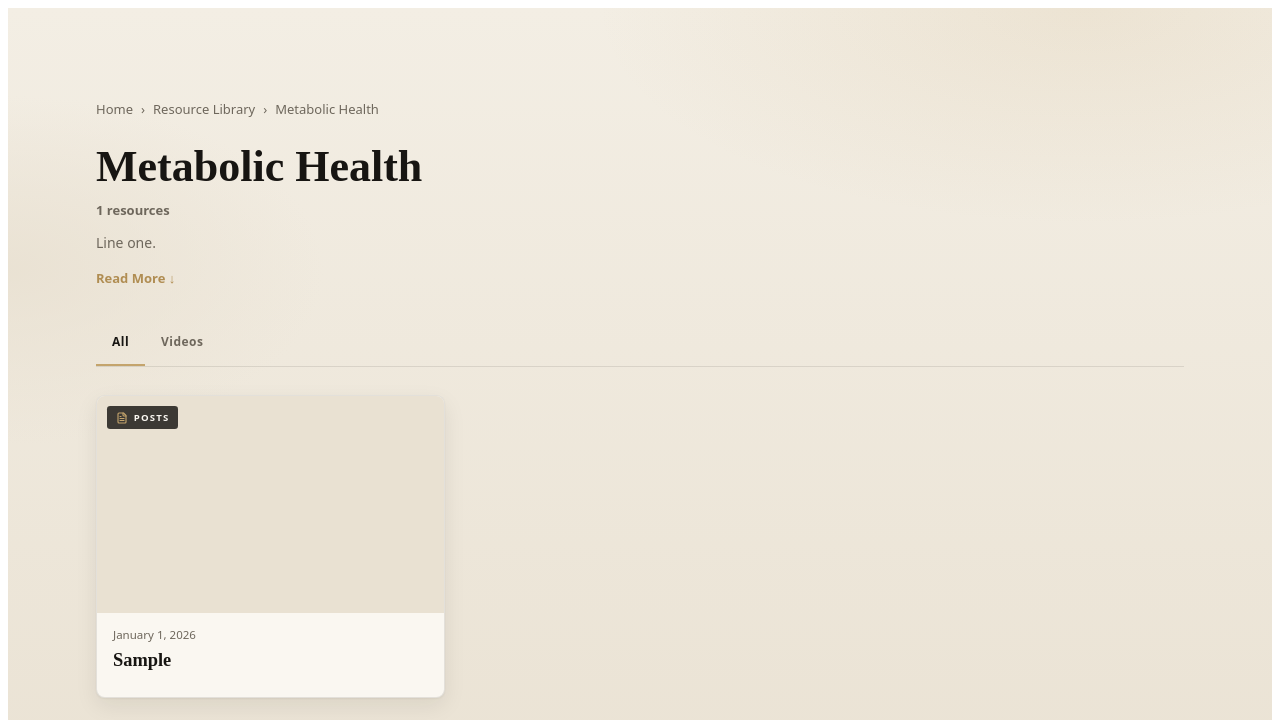
Test case: LibraryTaxonomyPage mount (TC12) › TX5: shows resource count; TX8: filtered empty tab resets to All
Expected: the heading "Metabolic Health" is shown, [96, 142, 422, 191]
Expected: the text with test id "taxonomy-resource-count" reads "1 resources", [96, 201, 170, 219]
Click the tab "Videos" at coordinates (182, 343), box [145, 320, 219, 366]
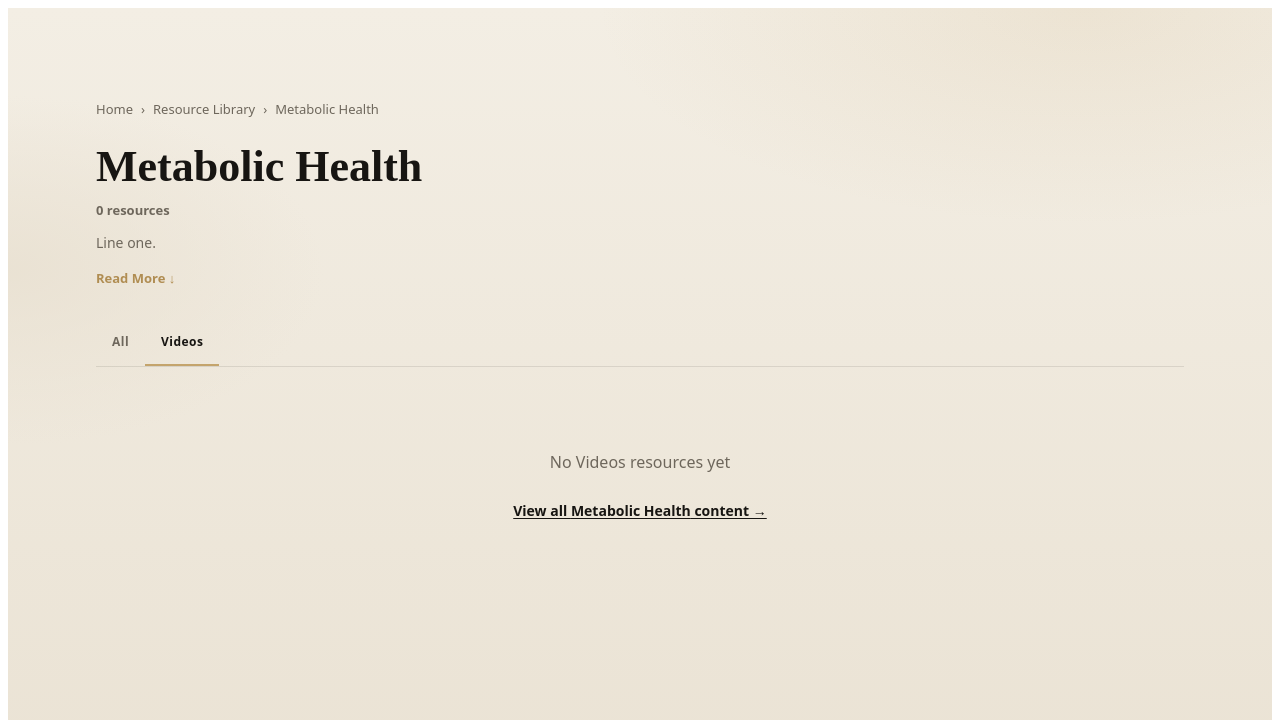
Expected: the text "No Videos resources yet" is shown, [550, 451, 730, 473]
Click the button "View all Metabolic Health content →" at coordinates (640, 510), box [513, 501, 767, 520]
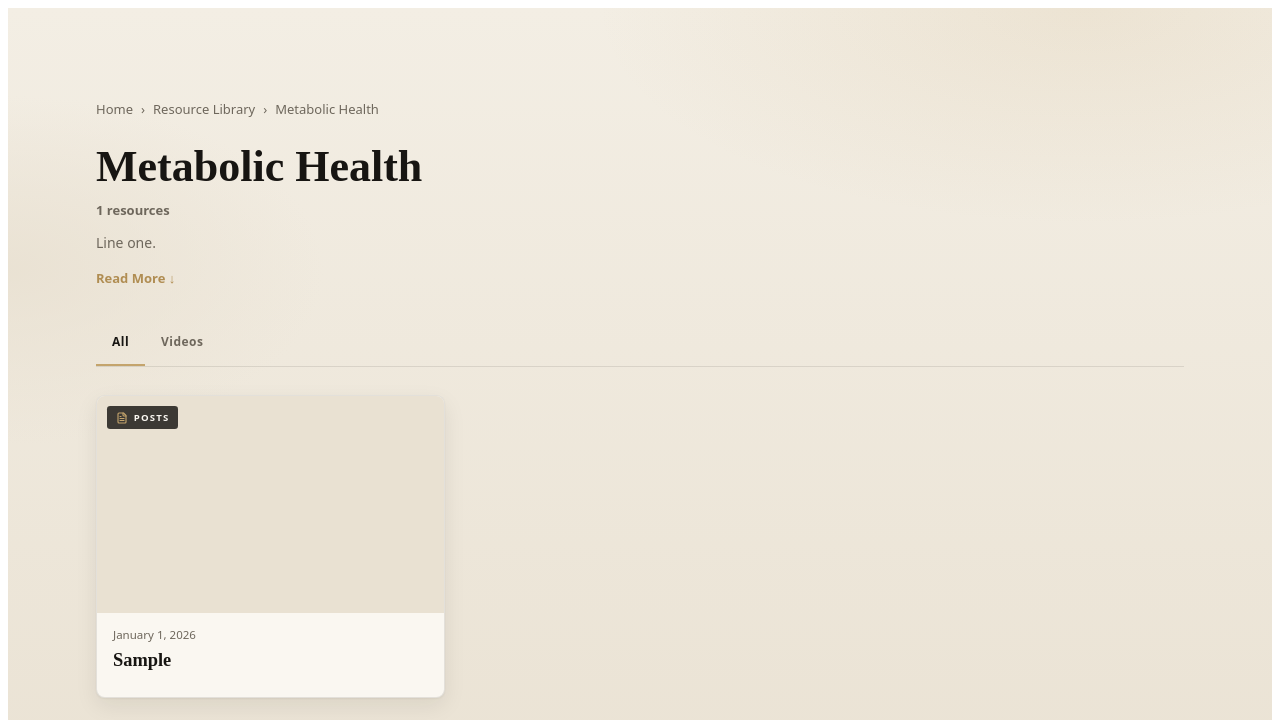
Expected: the text "No Videos resources yet" is gone
Expected: the text with test id "taxonomy-resource-count" reads "1 resources", [96, 201, 170, 219]
